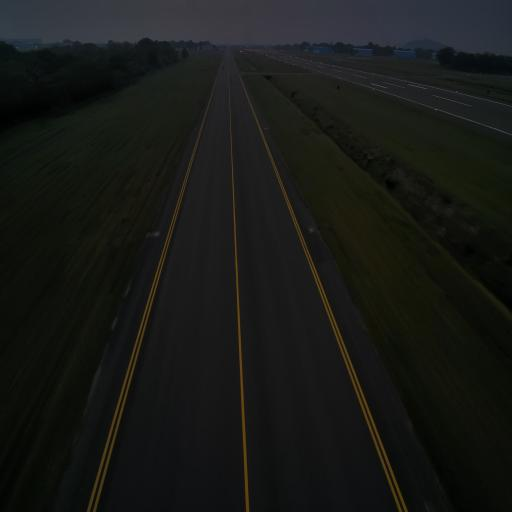off: (156, 230, 160, 237)
on: (310, 224, 313, 232), (194, 126, 196, 130), (265, 126, 267, 129)
